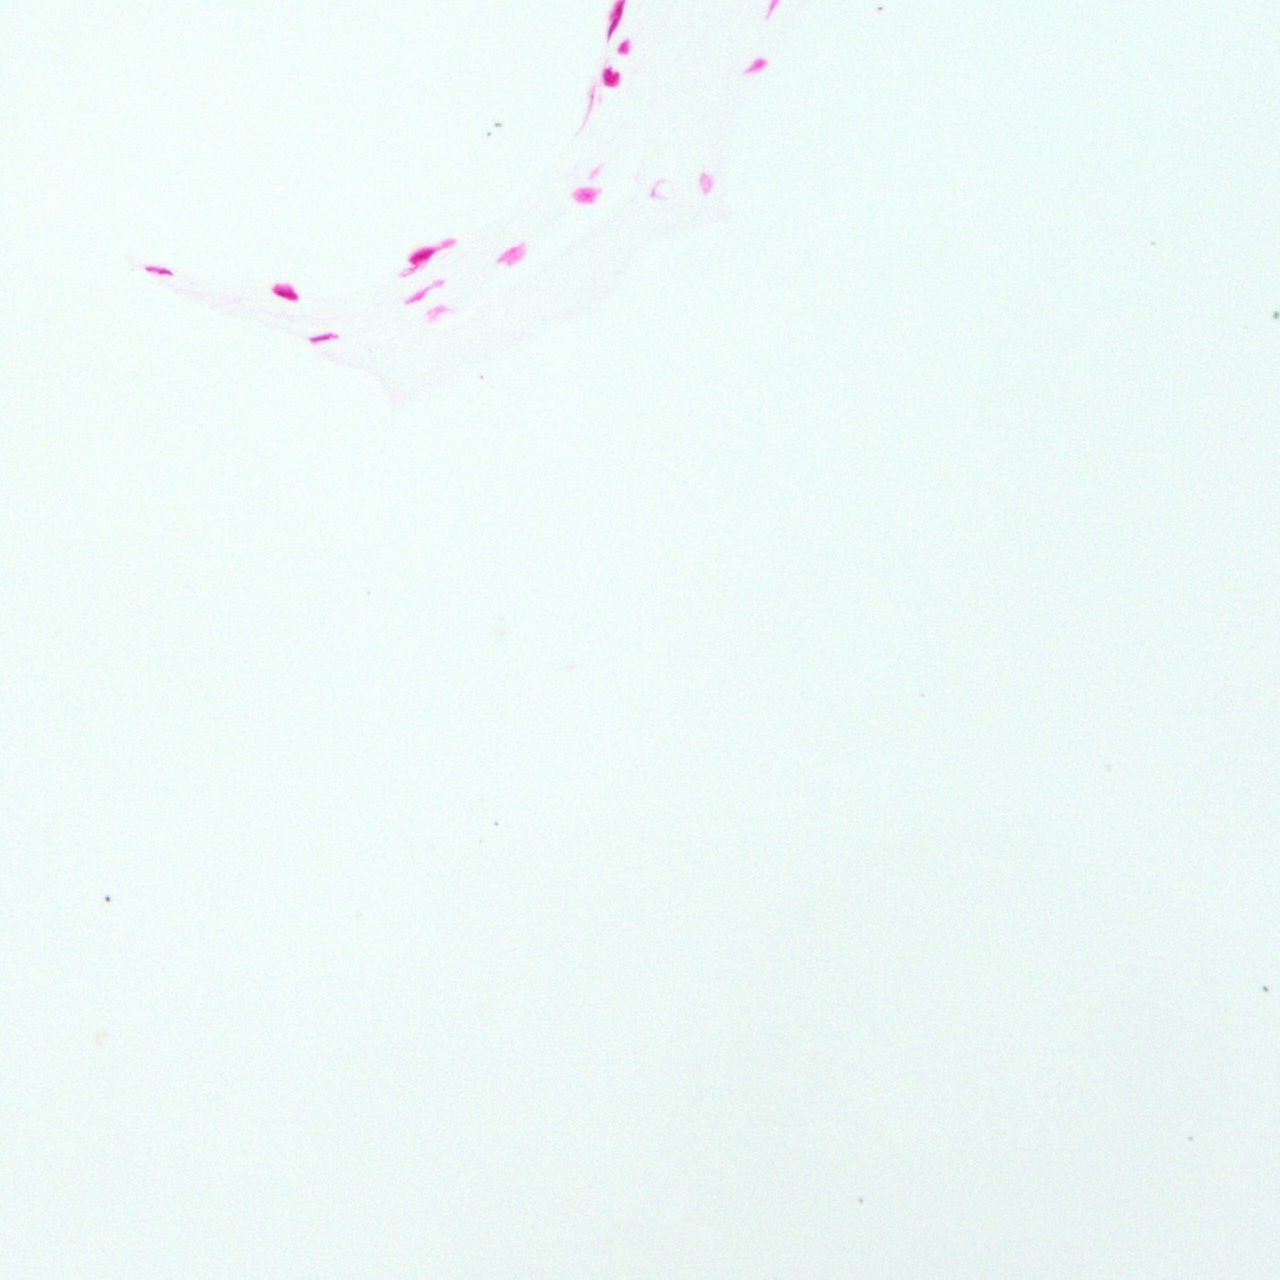dust: (1273, 309, 1280, 319), (1262, 983, 1269, 992), (493, 122, 502, 128), (104, 896, 111, 901), (493, 821, 498, 826), (486, 131, 491, 136)
nucleus-FG: (395, 229, 459, 278), (271, 277, 302, 302), (144, 261, 175, 275), (601, 64, 620, 87), (617, 35, 635, 56), (309, 332, 336, 342)
